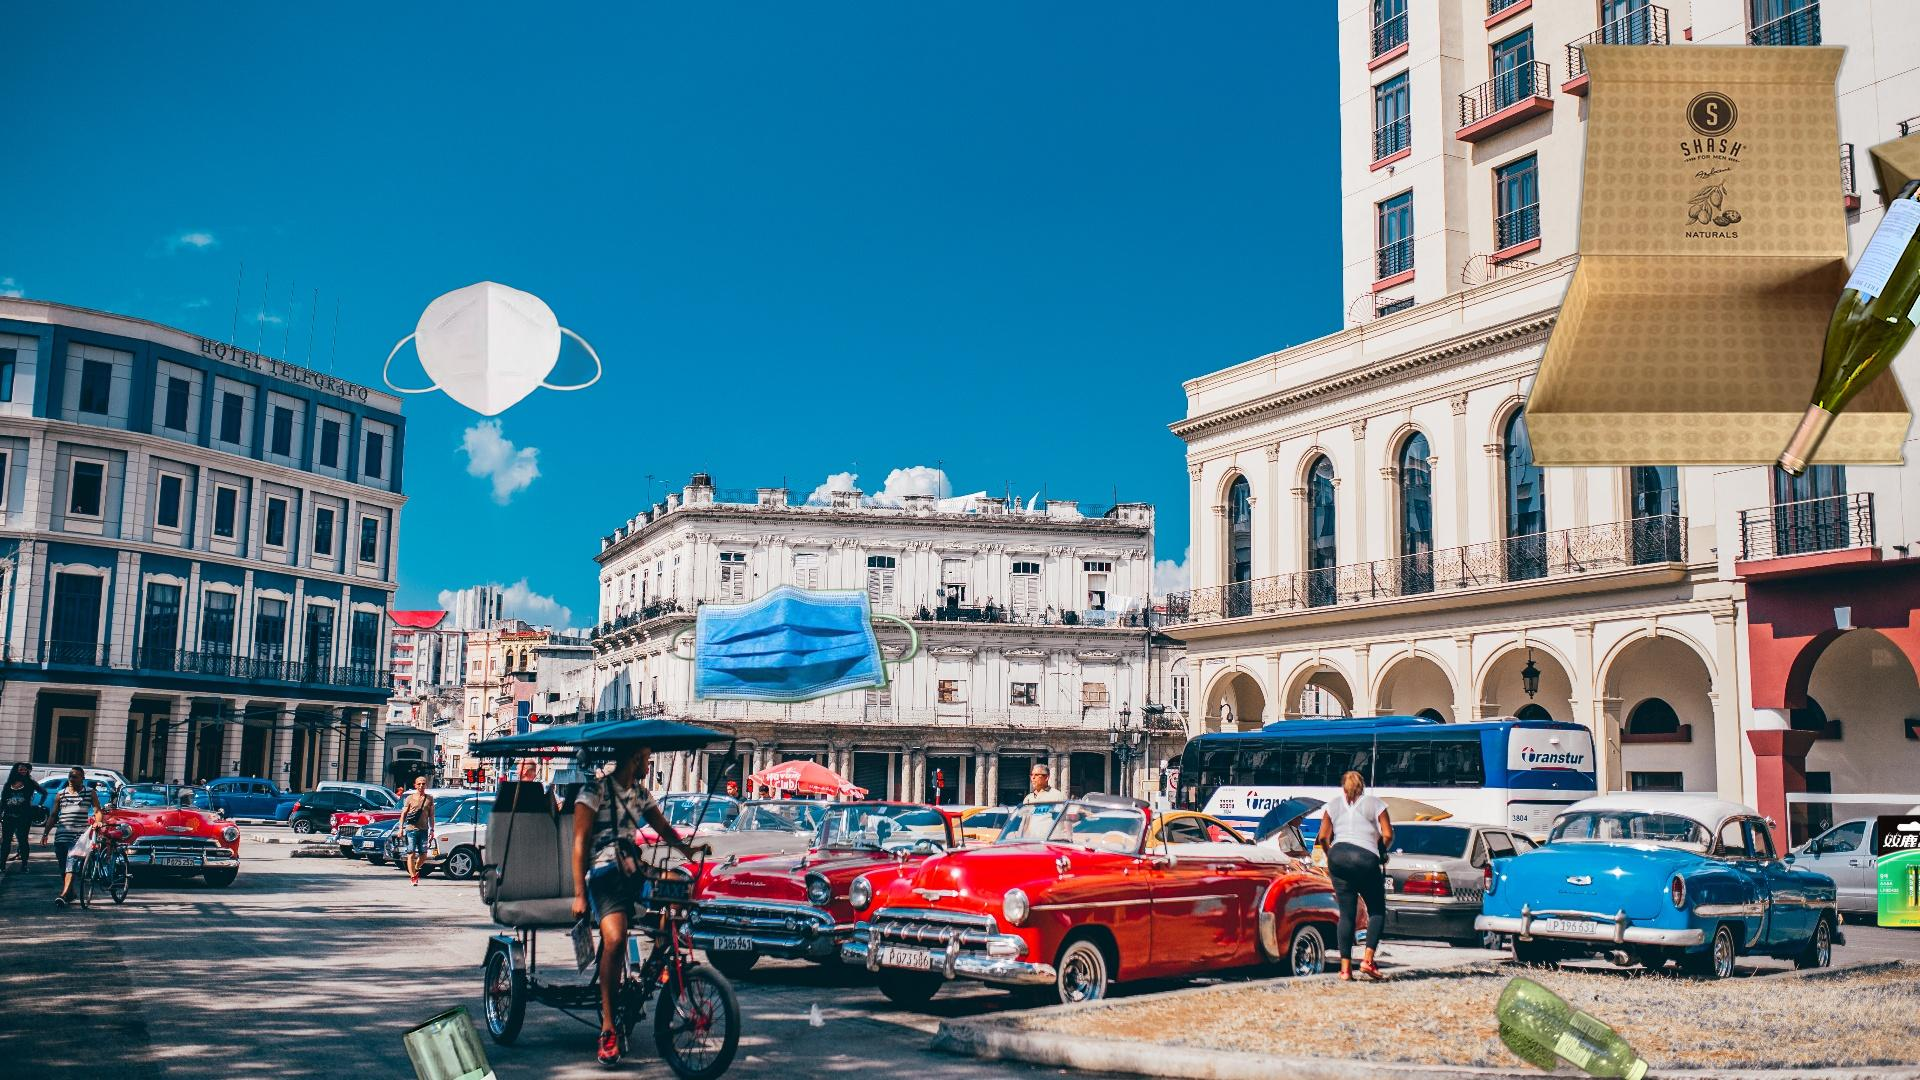battery: (1874, 812, 1920, 930)
glass: (378, 611, 555, 1080), (1771, 173, 1920, 485)
plastic-bottles: (1385, 971, 1654, 1080)
trash: (666, 582, 923, 709), (380, 278, 604, 419)
trashbox-cardboard: (1513, 40, 1920, 472), (506, 1069, 1920, 1080)
